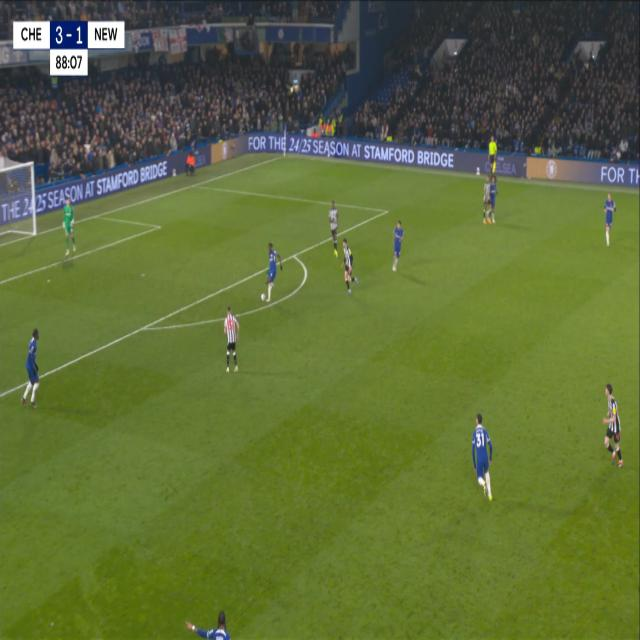Ball: (260, 290, 266, 308)
Chelsea: (468, 408, 496, 503), (19, 322, 44, 412), (184, 604, 234, 638), (260, 236, 284, 305), (601, 190, 617, 250), (389, 215, 404, 274)
Chelsea keeper: (61, 194, 77, 258)
New castle: (600, 378, 626, 472), (221, 301, 242, 378), (340, 236, 358, 298), (327, 198, 340, 260)
